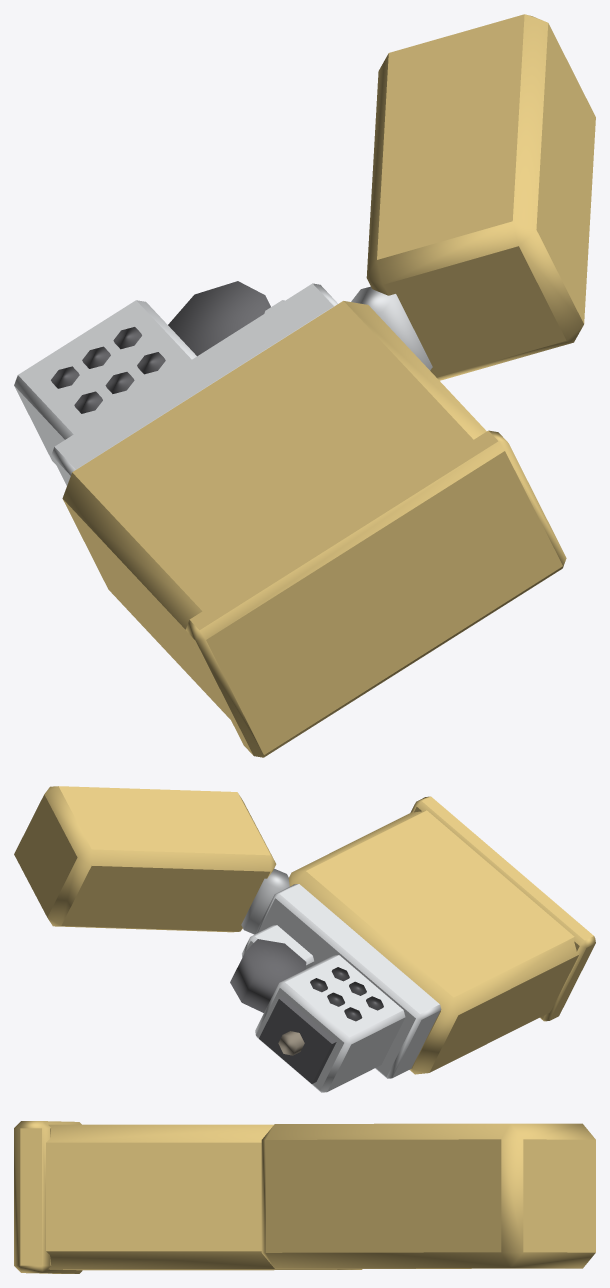
File: lighter.gltf
The picture shows the model from 3 angles, top to bottom: view 1: azimuth 30°, elevation 25°; view 2: azimuth 150°, elevation 25°; view 3: azimuth 270°, elevation 25°; orthographic projection. The views are drawn at different scales.
Visible parts, largest first — view 1: lighter; view 2: lighter; view 3: lighter.
Boxes of the visible parts, bbox=[...] form: lighter: bbox=[14, 14, 595, 757]; lighter: bbox=[14, 786, 595, 1092]; lighter: bbox=[14, 1121, 595, 1273].
Bounding box in the file's own units: 0.091 × 0.0567 × 0.0804.
